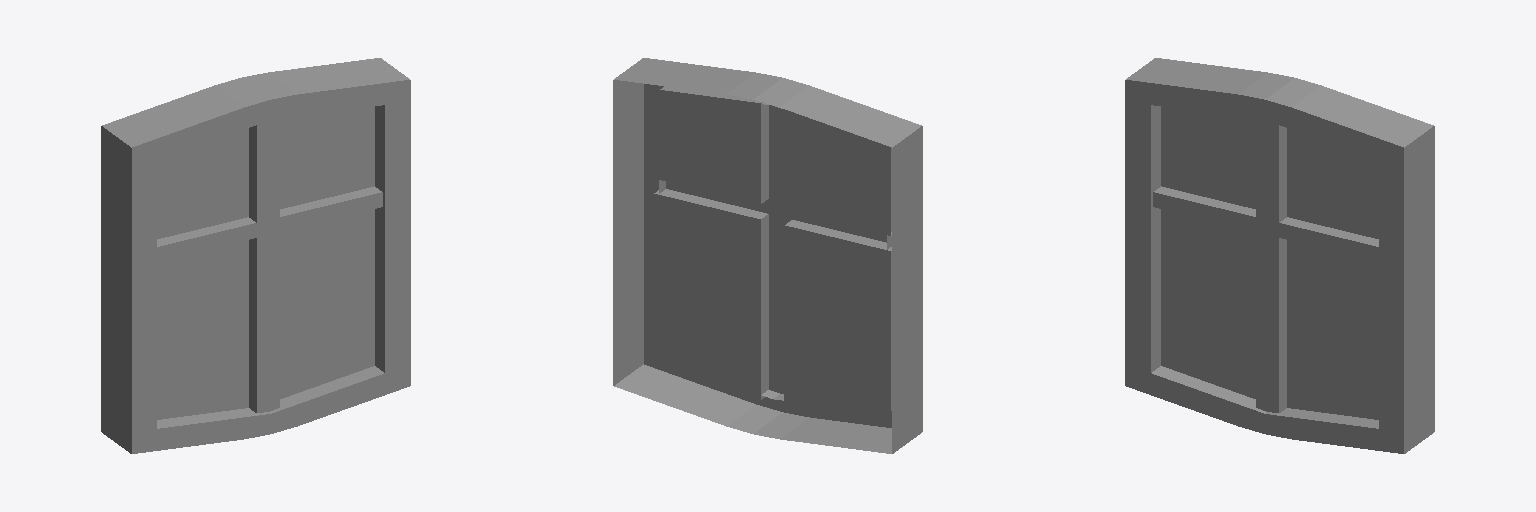
Rendered from Window.obj.
3 views of the same model, side by side, from view 1: azimuth 30°, elevation 25°; view 2: azimuth 150°, elevation 25°; view 3: azimuth 330°, elevation 25° (orthographic).
Parts seen in each view (by area): view 1: Window_Cube.000; view 2: Window_Cube.000; view 3: Window_Cube.000.
Boxes of the visible parts, box(x1,y1,x2,y2) form: Window_Cube.000: box(101, 58, 410, 453); Window_Cube.000: box(613, 58, 922, 453); Window_Cube.000: box(1125, 58, 1434, 453).
Size of the model in its own units: 0.3027 by 0.3471 by 0.0564.